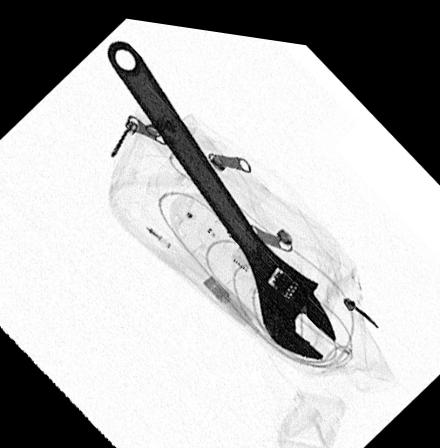Wrench: (105, 35, 335, 349)
